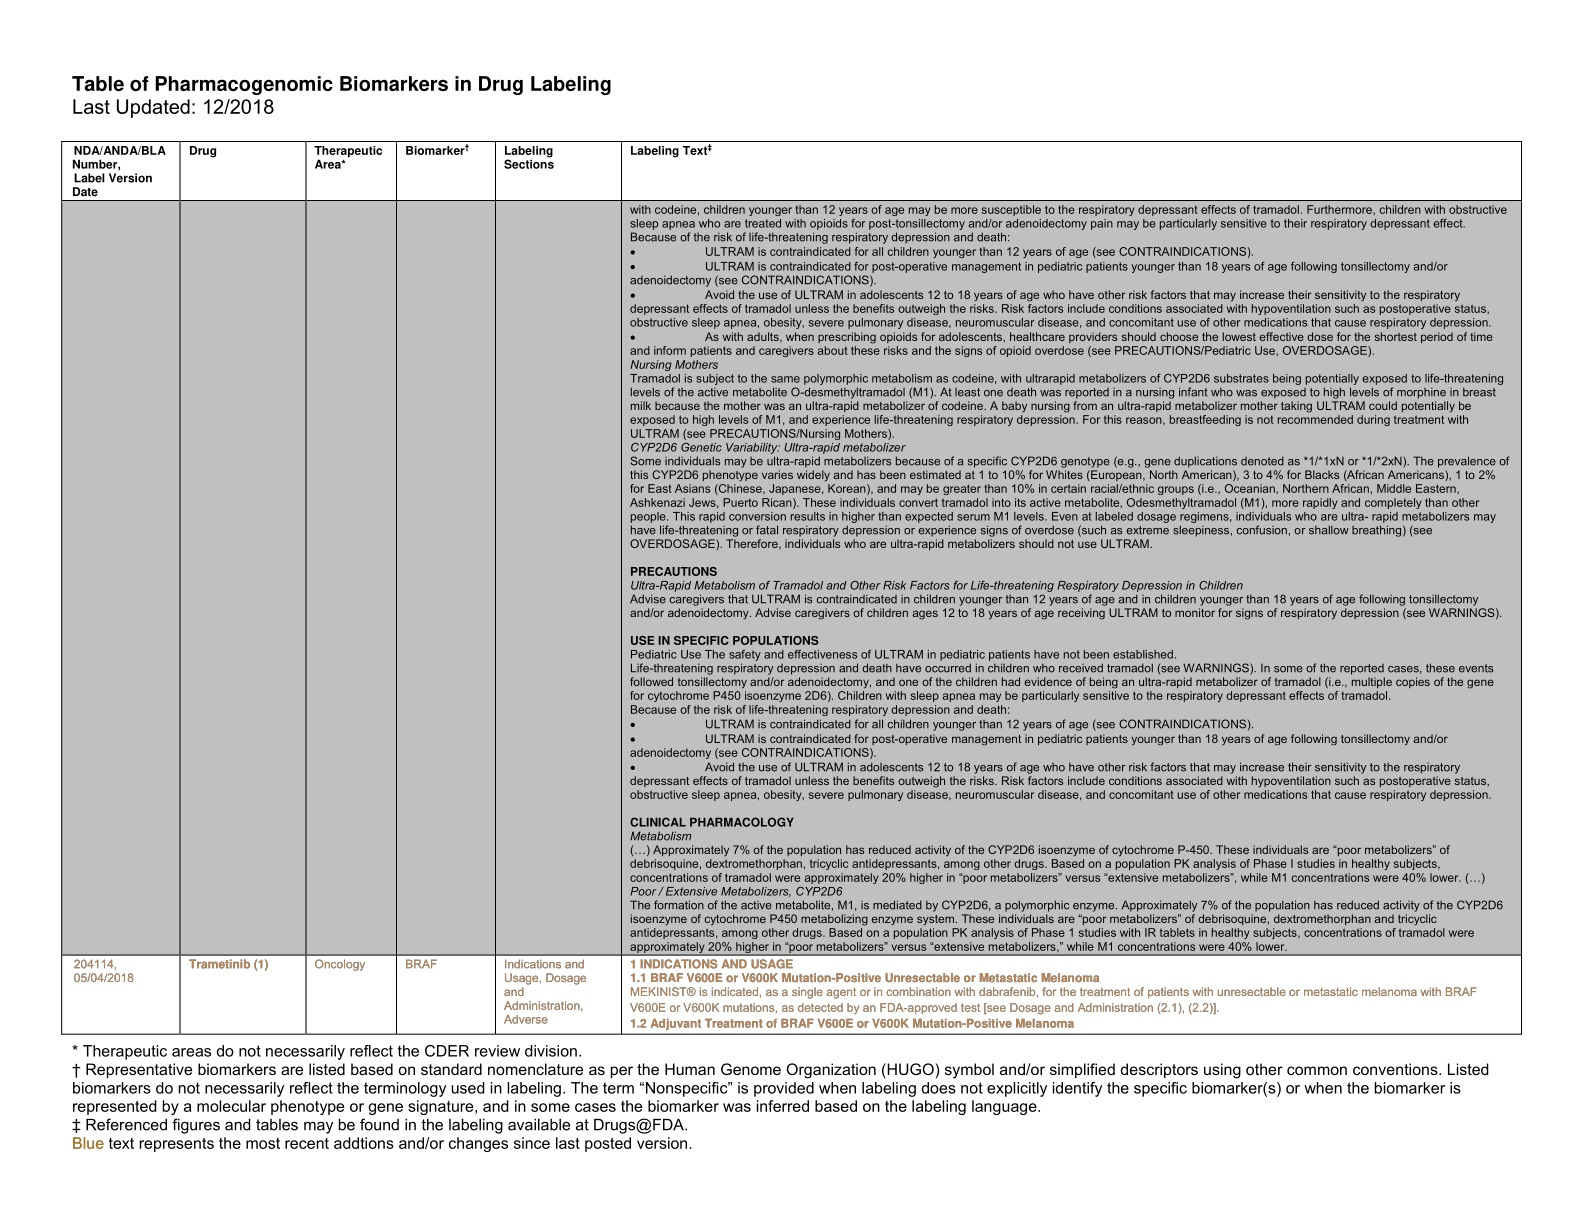full_lined: (60, 140, 1524, 1036)
